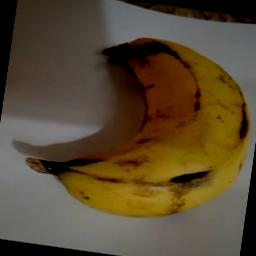Banana Unripe: (18, 18, 256, 234)
